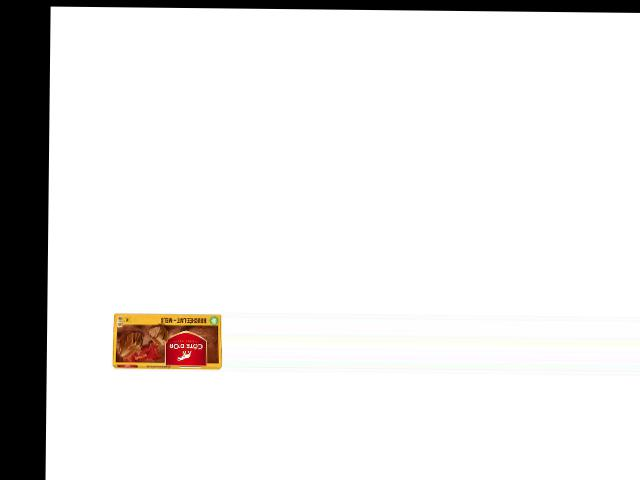chocolate: (110, 304, 222, 372)
